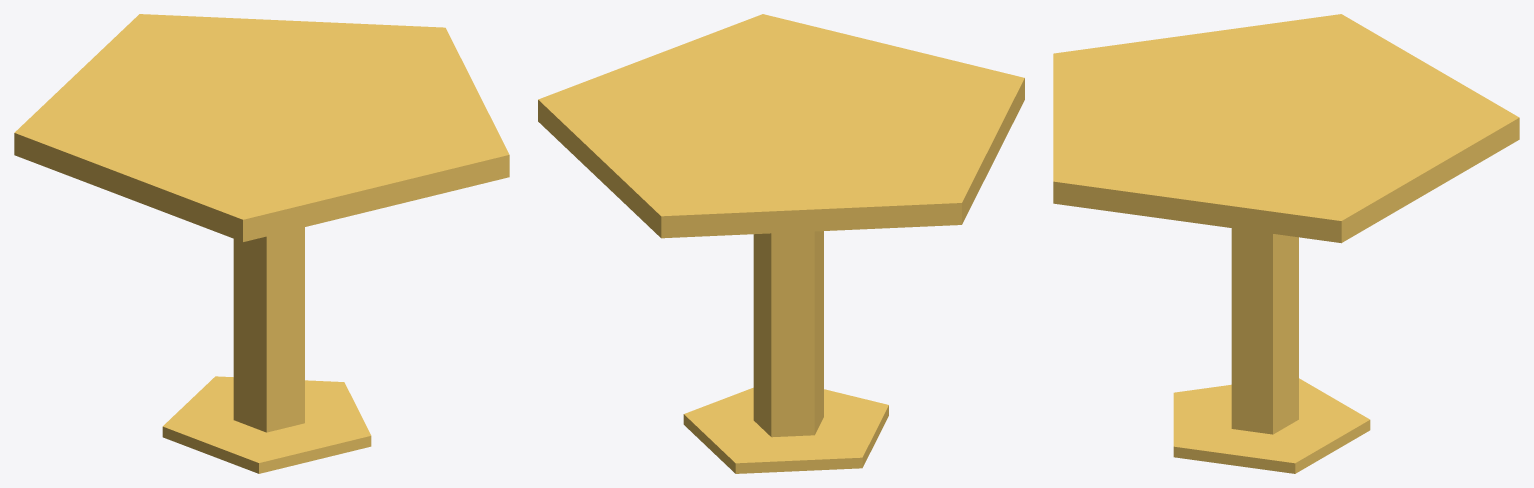
Rendered from Prop_F5_PentagonDeskCenter.fbx.
3 views of the same model, side by side, from view 1: azimuth 30°, elevation 25°; view 2: azimuth 150°, elevation 25°; view 3: azimuth 270°, elevation 25° (orthographic).
Parts seen in each view (by area): view 1: Prop_F5_PentagonDeskCenter; view 2: Prop_F5_PentagonDeskCenter; view 3: Prop_F5_PentagonDeskCenter.
Part boxes in pixels (left/top/right/bottom): Prop_F5_PentagonDeskCenter: left=14, top=14, right=509, bottom=473; Prop_F5_PentagonDeskCenter: left=538, top=14, right=1024, bottom=473; Prop_F5_PentagonDeskCenter: left=1053, top=14, right=1519, bottom=473.
Size of the model in its own units: 97.86 by 68.89 by 93.07.
